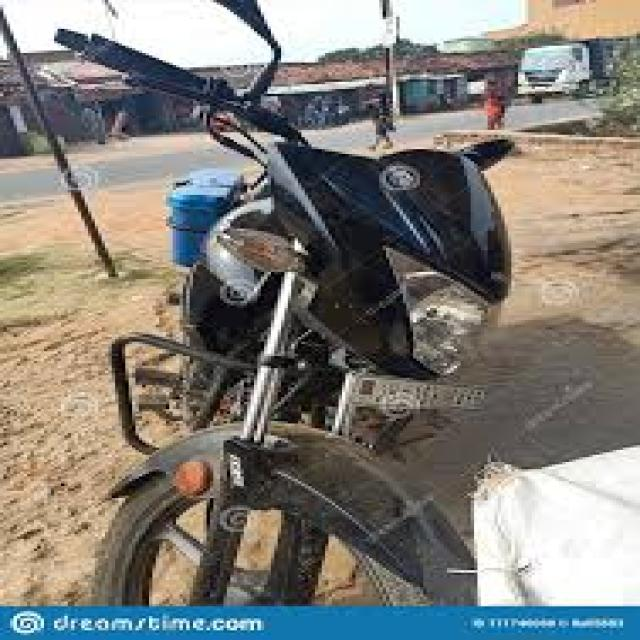Bike: (41, 10, 525, 593)
